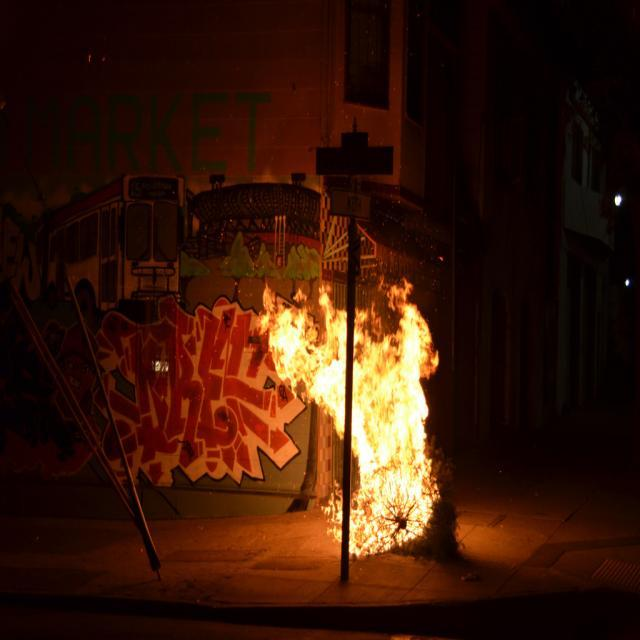Fire: (354, 314, 426, 540), (270, 290, 340, 432)
